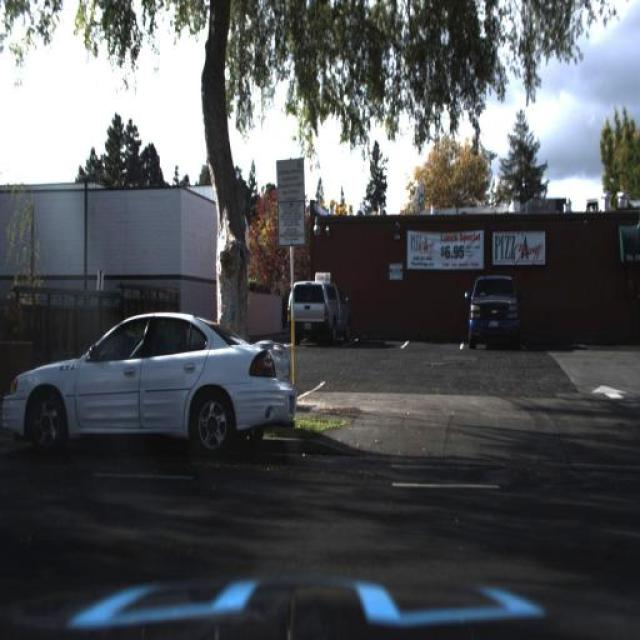car: (1, 297, 302, 468), (276, 274, 356, 348), (458, 271, 526, 358)
